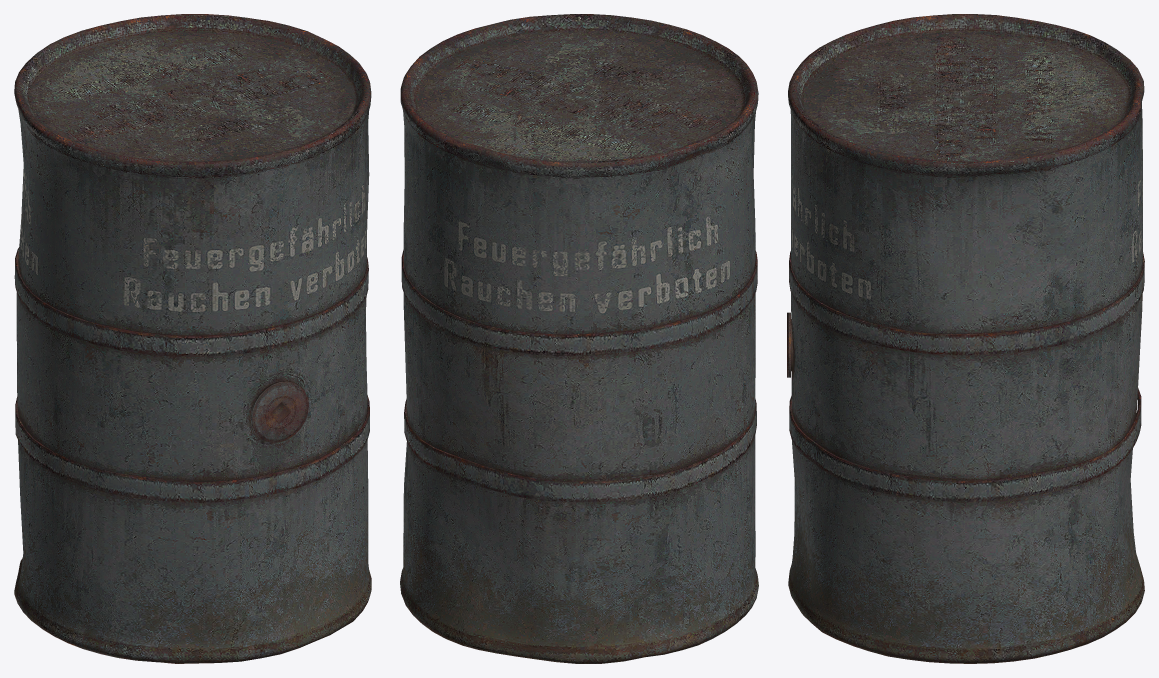
Rendered from oil_barrel_01.gltf.
The picture shows the model from 3 angles, left to right: view 1: azimuth 30°, elevation 25°; view 2: azimuth 150°, elevation 25°; view 3: azimuth 270°, elevation 25°; orthographic projection.
Parts seen in each view (by area): view 1: german_barrel:german_barrel; view 2: german_barrel:german_barrel; view 3: german_barrel:german_barrel.
Part boxes in pixels (bbox=[...]): german_barrel:german_barrel: bbox=[14, 14, 371, 663]; german_barrel:german_barrel: bbox=[400, 14, 758, 663]; german_barrel:german_barrel: bbox=[787, 14, 1144, 663].
Bounding box in the file's own units: 0.7878 × 1.22 × 0.7862.
